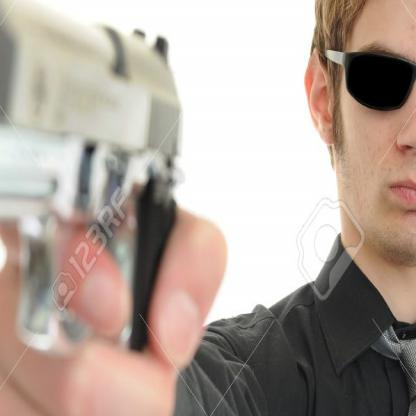gun: (0, 0, 178, 415)
